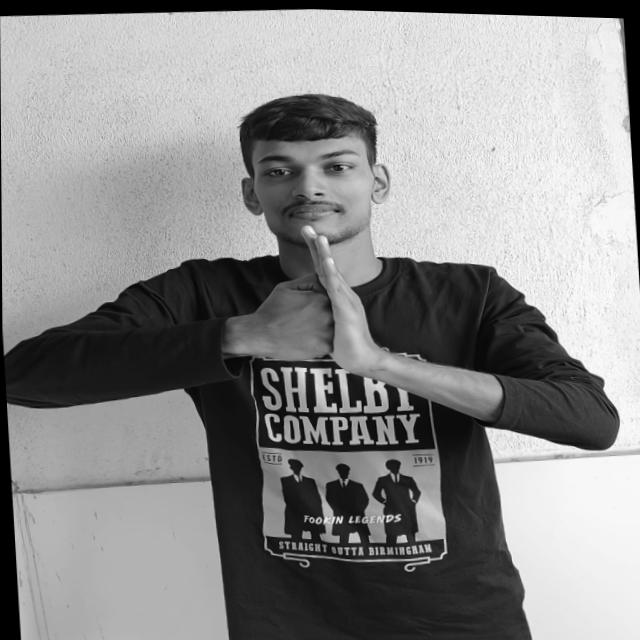Well Done: (245, 217, 384, 382)
